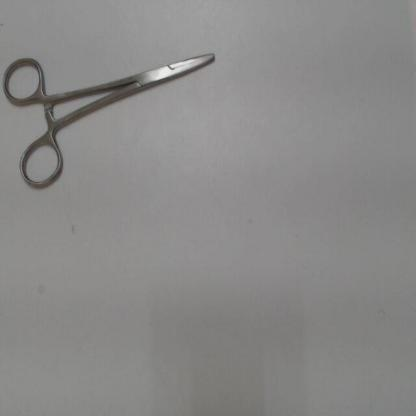Mayo Needle Holder: (1, 41, 230, 193)
